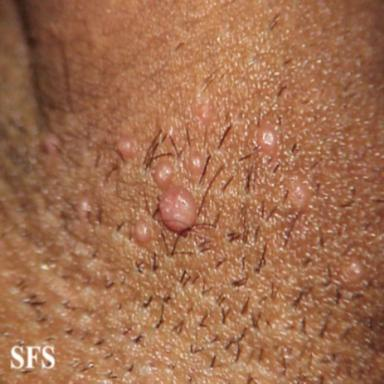Molluscum-Contagiosum: (153, 160, 197, 232), (288, 179, 311, 211), (255, 125, 277, 155), (116, 134, 137, 159), (133, 220, 151, 244), (345, 261, 364, 283), (188, 152, 205, 176)
